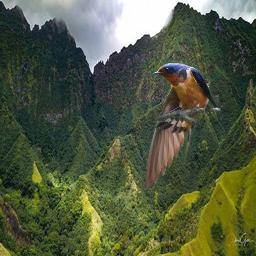Swallow: (142, 61, 223, 190)
